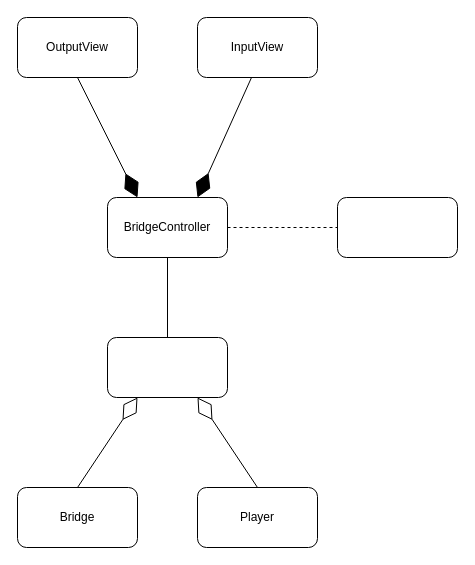
Image size: 475x565. Some labels were removed from this diagram. Here are the shapes that lost their labels. From the top down, the box of each, then its label:
(336, 196, 458, 258): BridgeMaker
(106, 336, 228, 398): BridgeGame
